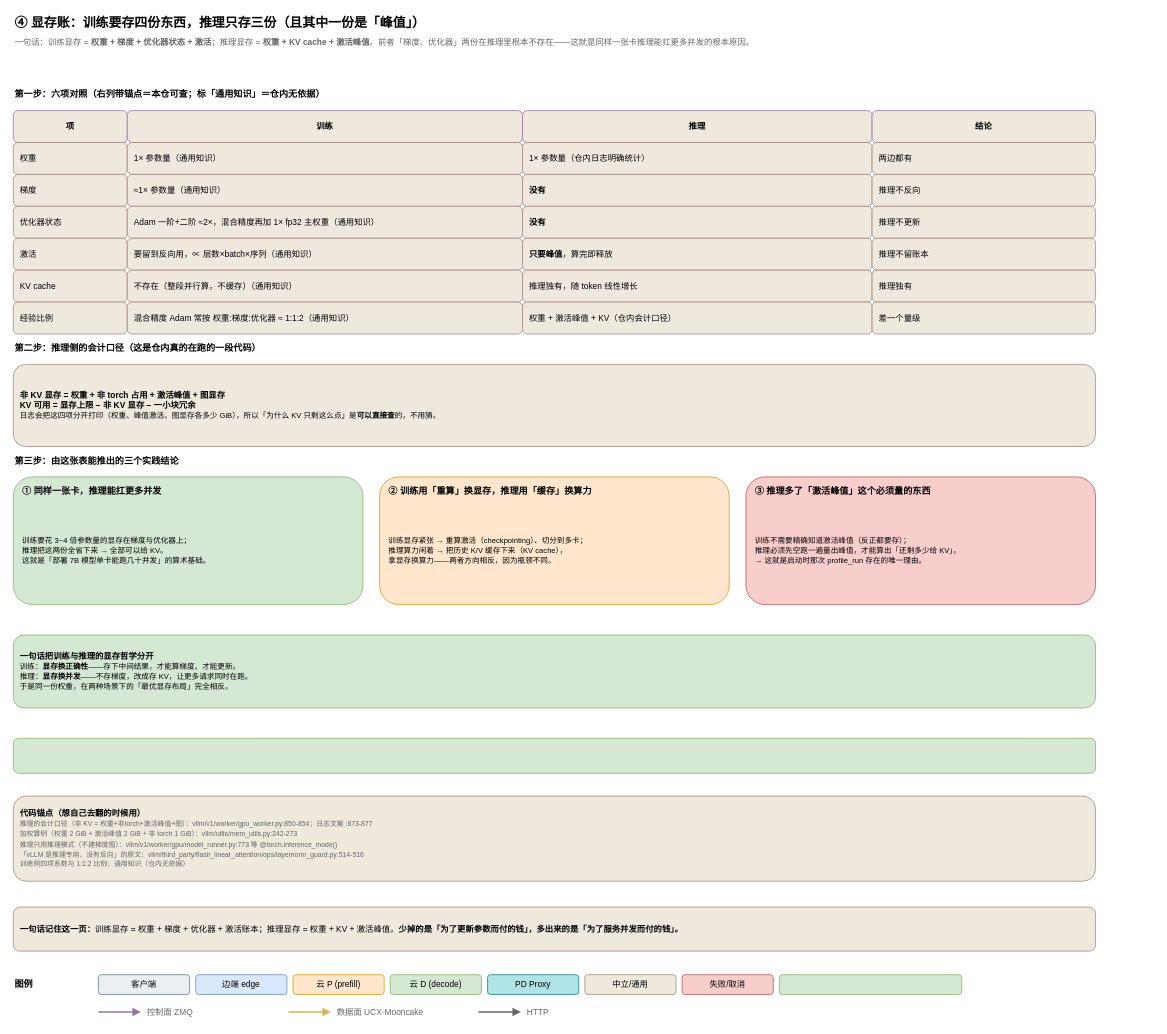
Some shapes in this 1167 by 1034 pixel diagram are drawn without their labels. The shapes that lost their labels are listed below. From the top down, each one's centre as x and y in pixels, then its label:
(554,755): 本页交接：四项里最容易被低估的是「激活」。下一步（⑤）专门讲它——包括一个从 288 MB 涨到 6 GB 的真实算术。
(870,984): 推理独有 / 可利用
